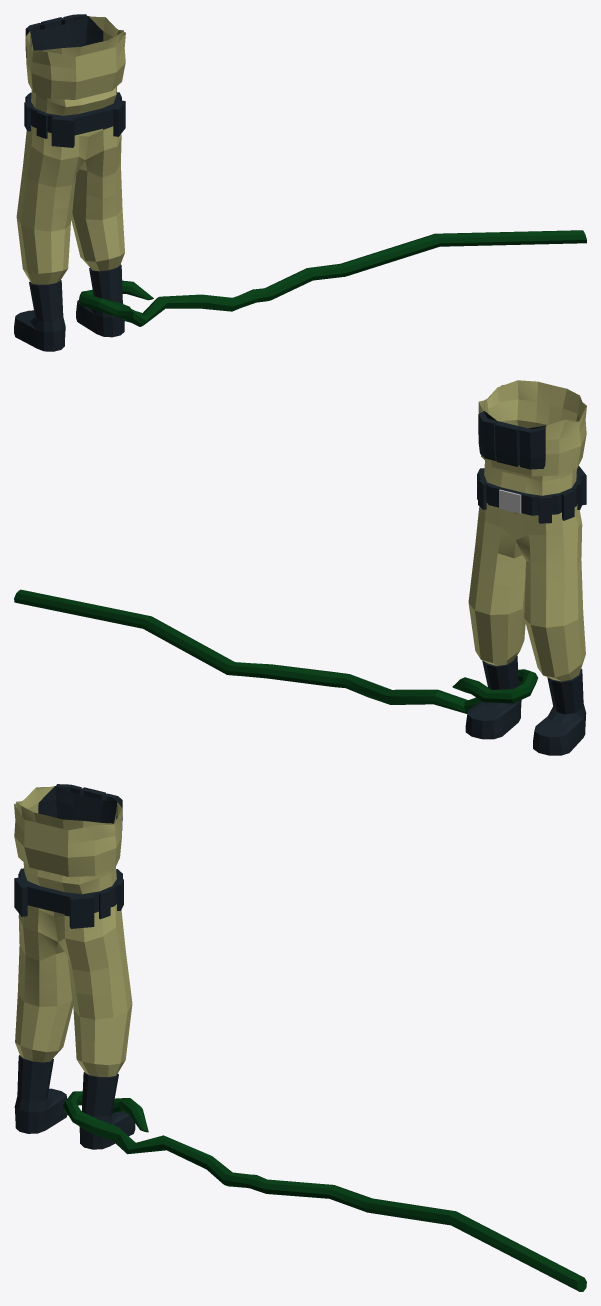
Rendered from Player_just_the_legs_ft_Trip.fbx.
3 views of the same model, one above another, from view 1: azimuth 30°, elevation 25°; view 2: azimuth 150°, elevation 25°; view 3: azimuth 330°, elevation 25° (orthographic). The views are drawn at different scales.
Parts seen in each view (by area): view 1: Body, Trip_the_vine; view 2: Body, Trip_the_vine; view 3: Body, Trip_the_vine.
Boxes of the visible parts, x1,y1,x2,y2 form: Body: (14, 14, 125, 351); Trip_the_vine: (79, 230, 586, 326); Body: (465, 380, 586, 755); Trip_the_vine: (14, 589, 537, 713); Body: (14, 784, 135, 1149); Trip_the_vine: (63, 1091, 586, 1291).
Size of the model in its own units: 498 by 281 by 72.37.
